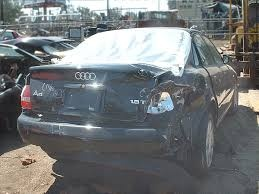Broken-glass: (28, 64, 187, 155), (146, 88, 185, 115)
